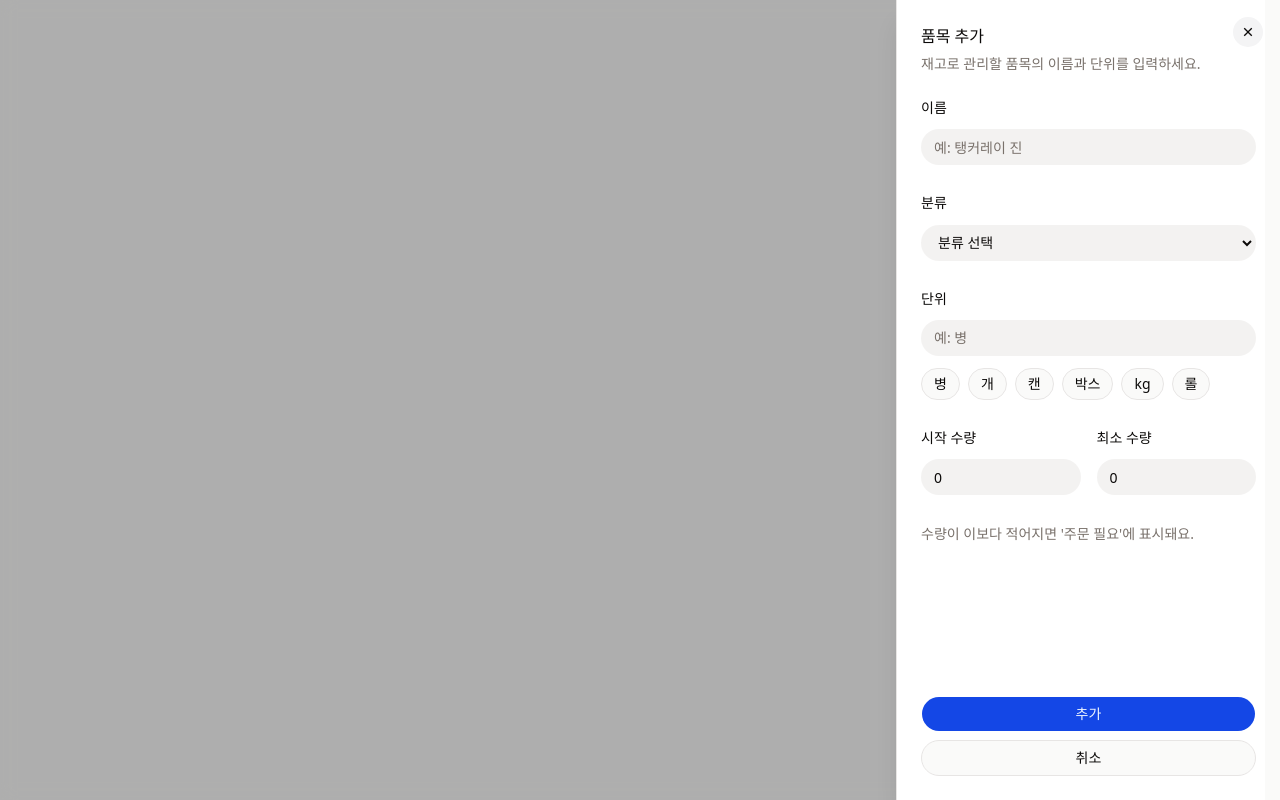
ItemFormSheet › uses numeric keyboards for quantities and fills the unit from a suggestion chip
Click the button "캔" at (1034, 384), box [1015,368,1054,400]
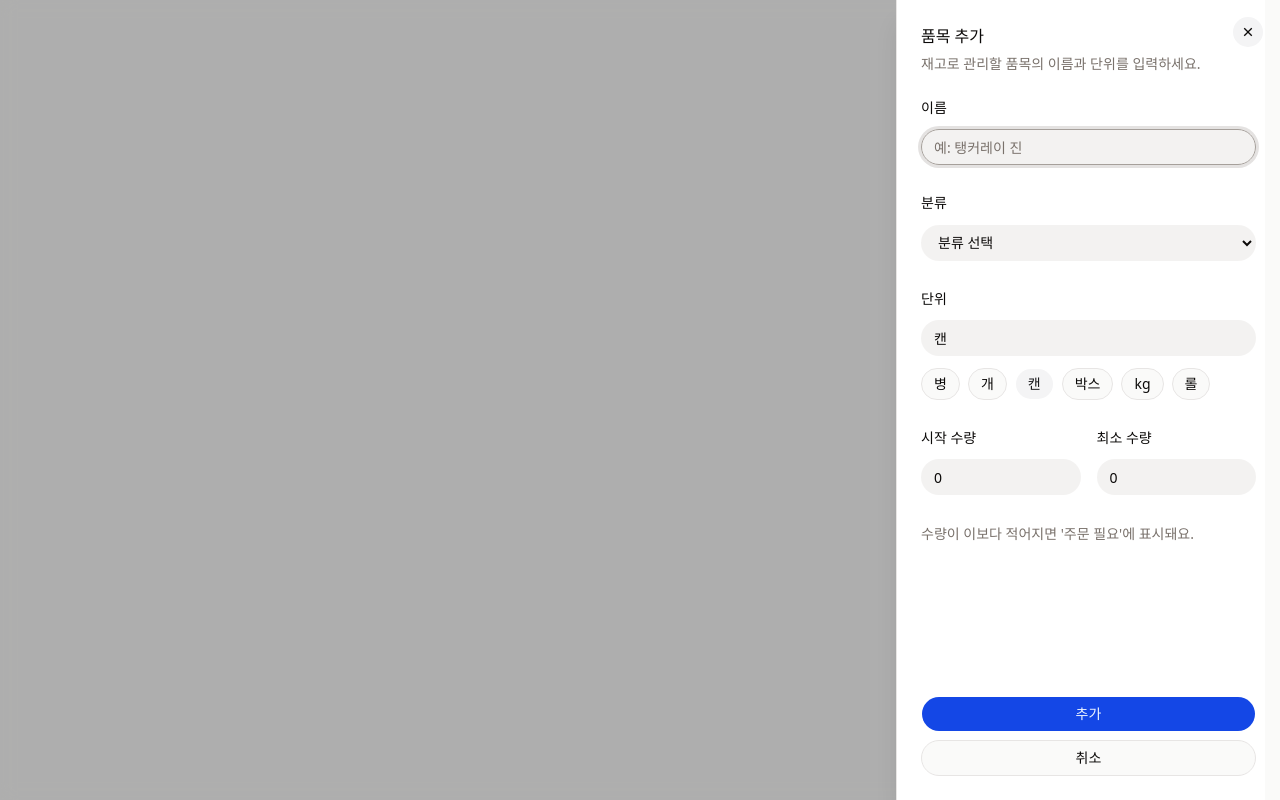
Check: the field labelled "단위" holds "캔", box [921,320,1256,356]
